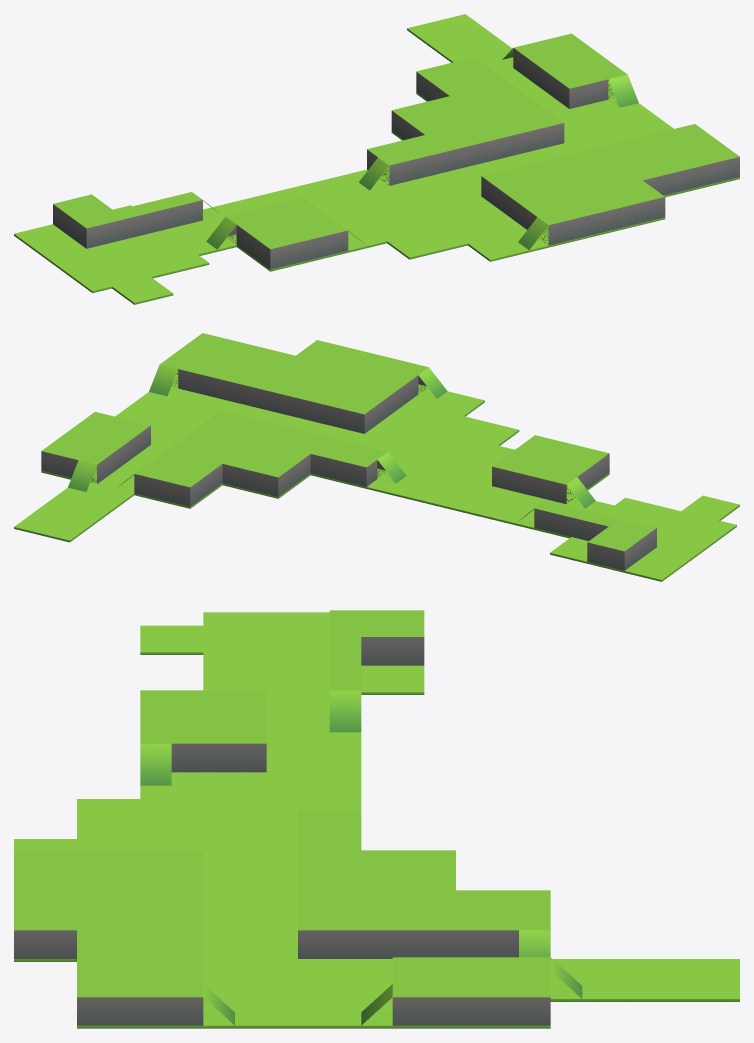
File: SM_Env_Island_Three.fbx
3 views of the same model, one above another, from view 1: azimuth 30°, elevation 25°; view 2: azimuth 150°, elevation 25°; view 3: azimuth 270°, elevation 25° (orthographic). The views are drawn at different scales.
Visible parts, largest first — view 1: Cube.006, Cube.005; view 2: Cube.006, Cube.005; view 3: Cube.006, Cube.005.
Boxes of the visible parts, x1,y1,x2,y2 form: Cube.006: (53,33,739,269); Cube.005: (14,14,739,304); Cube.006: (41,333,656,570); Cube.005: (14,371,739,581); Cube.006: (14,610,582,1025); Cube.005: (14,612,739,1028).
Bounding box in the file's own units: 3100 × 110 × 2300.
Materials: 1 (1 with a texture image).
